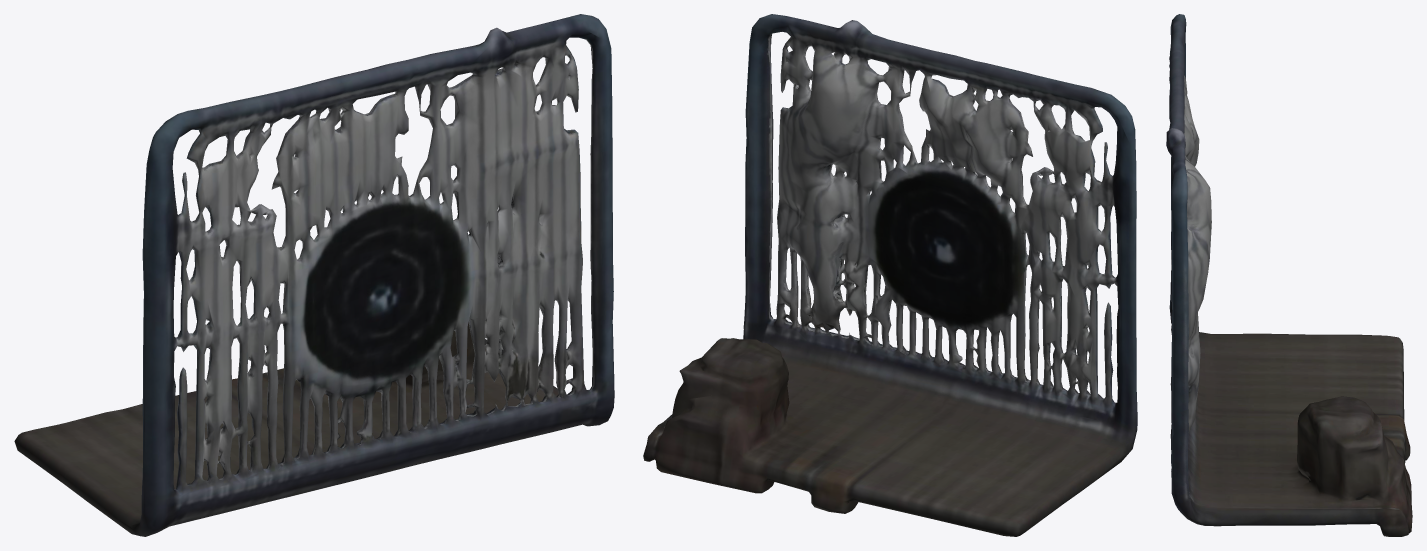
Rendered from 3a046b463f2a_shooting_range_high.fbx.
3 renders of one model, left to right at view 1: azimuth 30°, elevation 25°; view 2: azimuth 150°, elevation 25°; view 3: azimuth 270°, elevation 25°, orthographic. The views are drawn at different scales.
Visible parts, largest first — view 1: mesh; view 2: mesh; view 3: mesh.
Part boxes in pixels (x1=…): mesh: x1=14, y1=14, x2=614, y2=536; mesh: x1=643, y1=14, x2=1137, y2=536; mesh: x1=1166, y1=14, x2=1412, y2=536.
Size of the model in its own units: 99.98 by 93.76 by 56.07.
